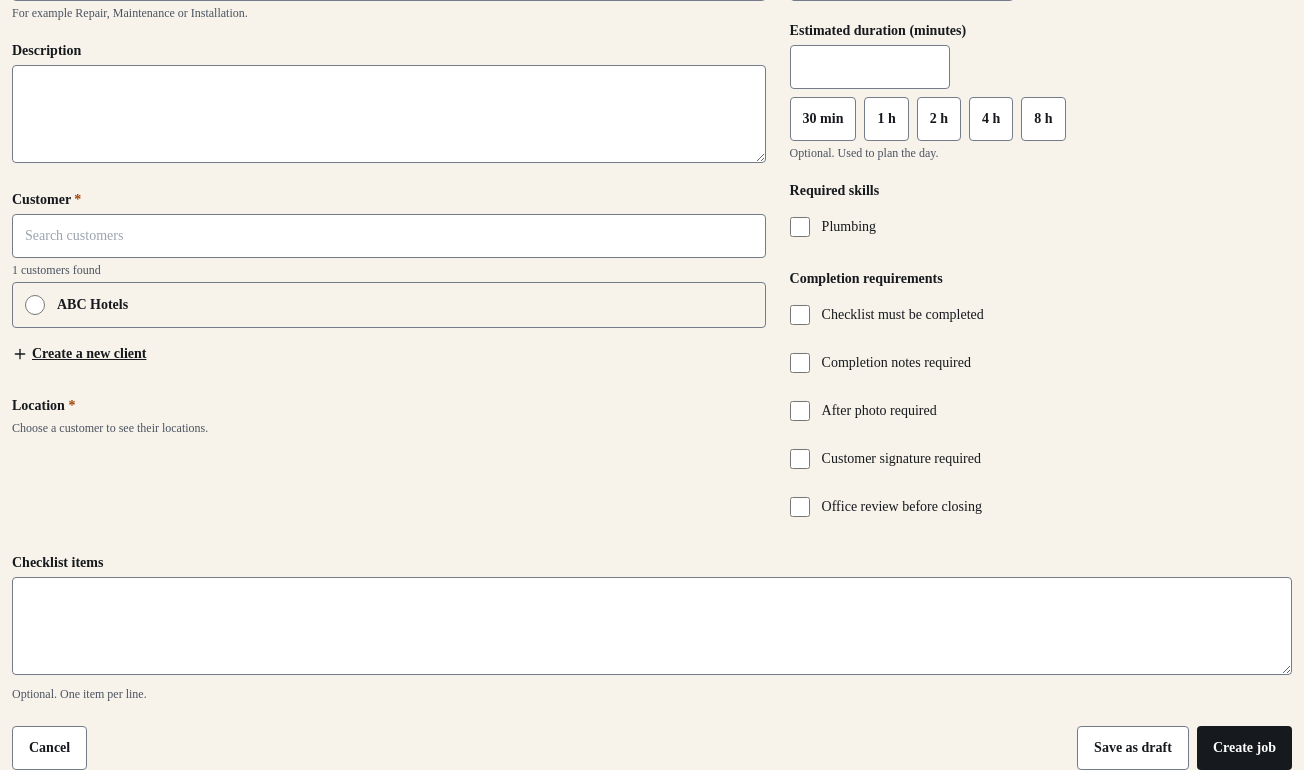
Scenario: Save as draft (4718e5f9) › with neither a title nor a client it says so and moves focus to Title
(page scrolled)
Click the button "Save as draft": (1133, 748) [1077, 726, 1189, 769]
(page scrolled)
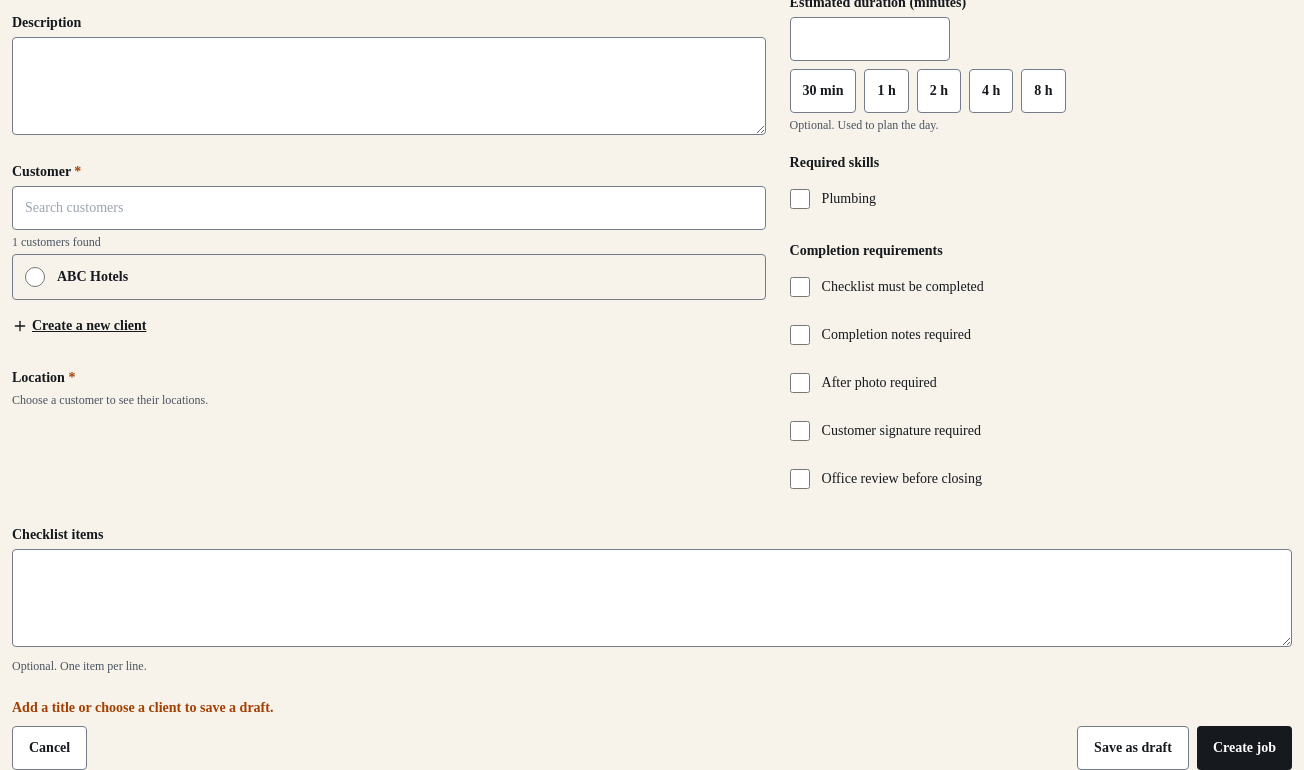
Result: the message reads "Add a title or choose a client to save a draft." at [12, 700, 273, 715]
